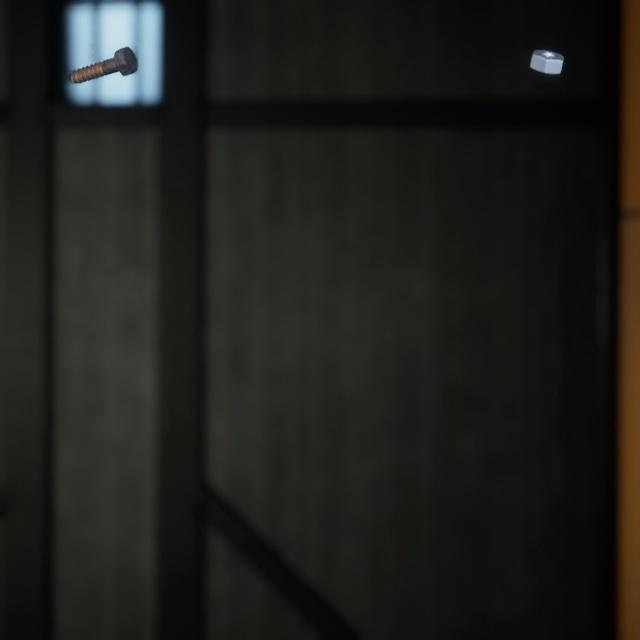bolt: (65, 31, 141, 77)
nut: (525, 35, 568, 68)
